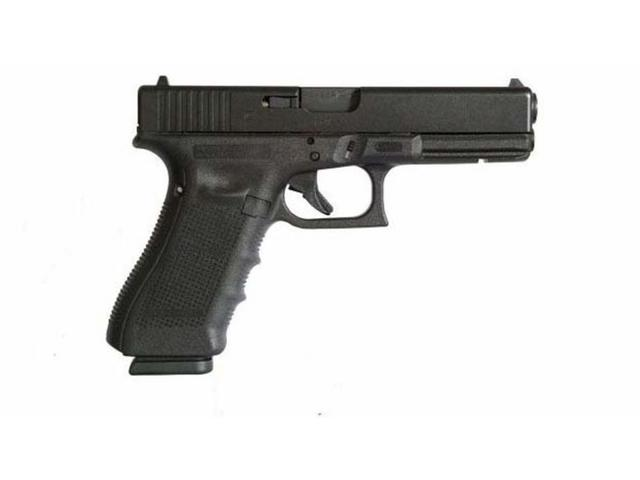pistol: (99, 76, 542, 373)
